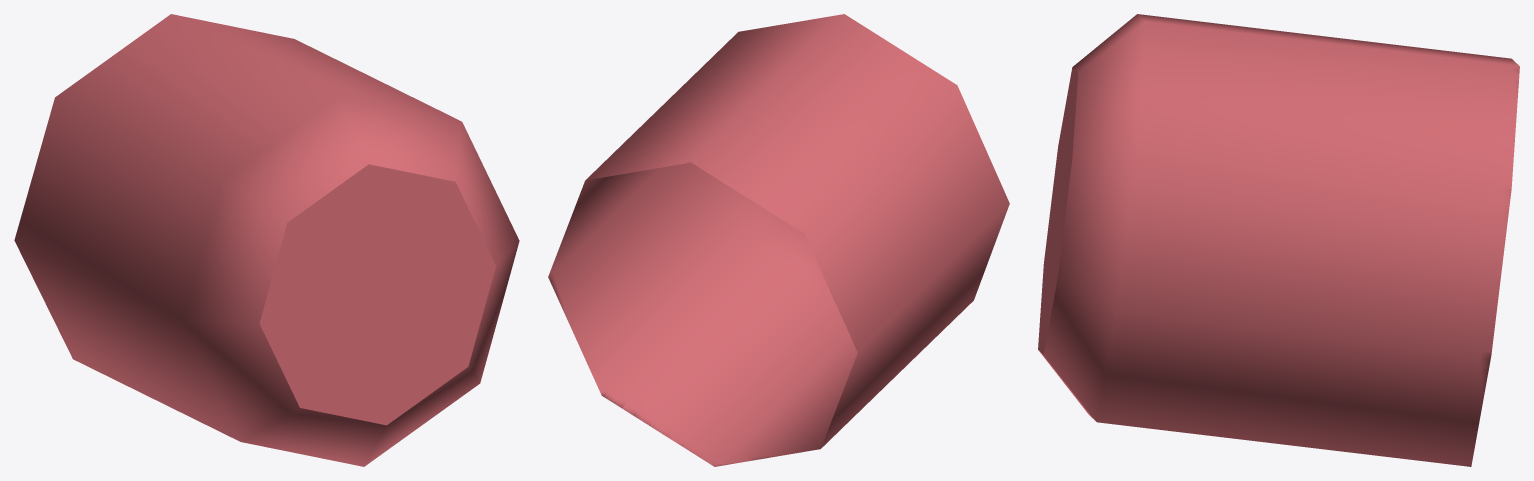
Rendered from button_middle.glb.
3 views of the same model, side by side, from view 1: azimuth 30°, elevation 25°; view 2: azimuth 150°, elevation 25°; view 3: azimuth 270°, elevation 25° (orthographic). The views are drawn at different scales.
Parts seen in each view (by area): view 1: button_middle; view 2: button_middle; view 3: button_middle.
Boxes of the visible parts, x1=… form: button_middle: x1=14, y1=14, x2=519, y2=466; button_middle: x1=548, y1=14, x2=1009, y2=466; button_middle: x1=1038, y1=14, x2=1519, y2=466.
Size of the model in its own units: 0.0108 by 0.0119 by 0.0119.
Materials: 1 (1 with a texture image).
